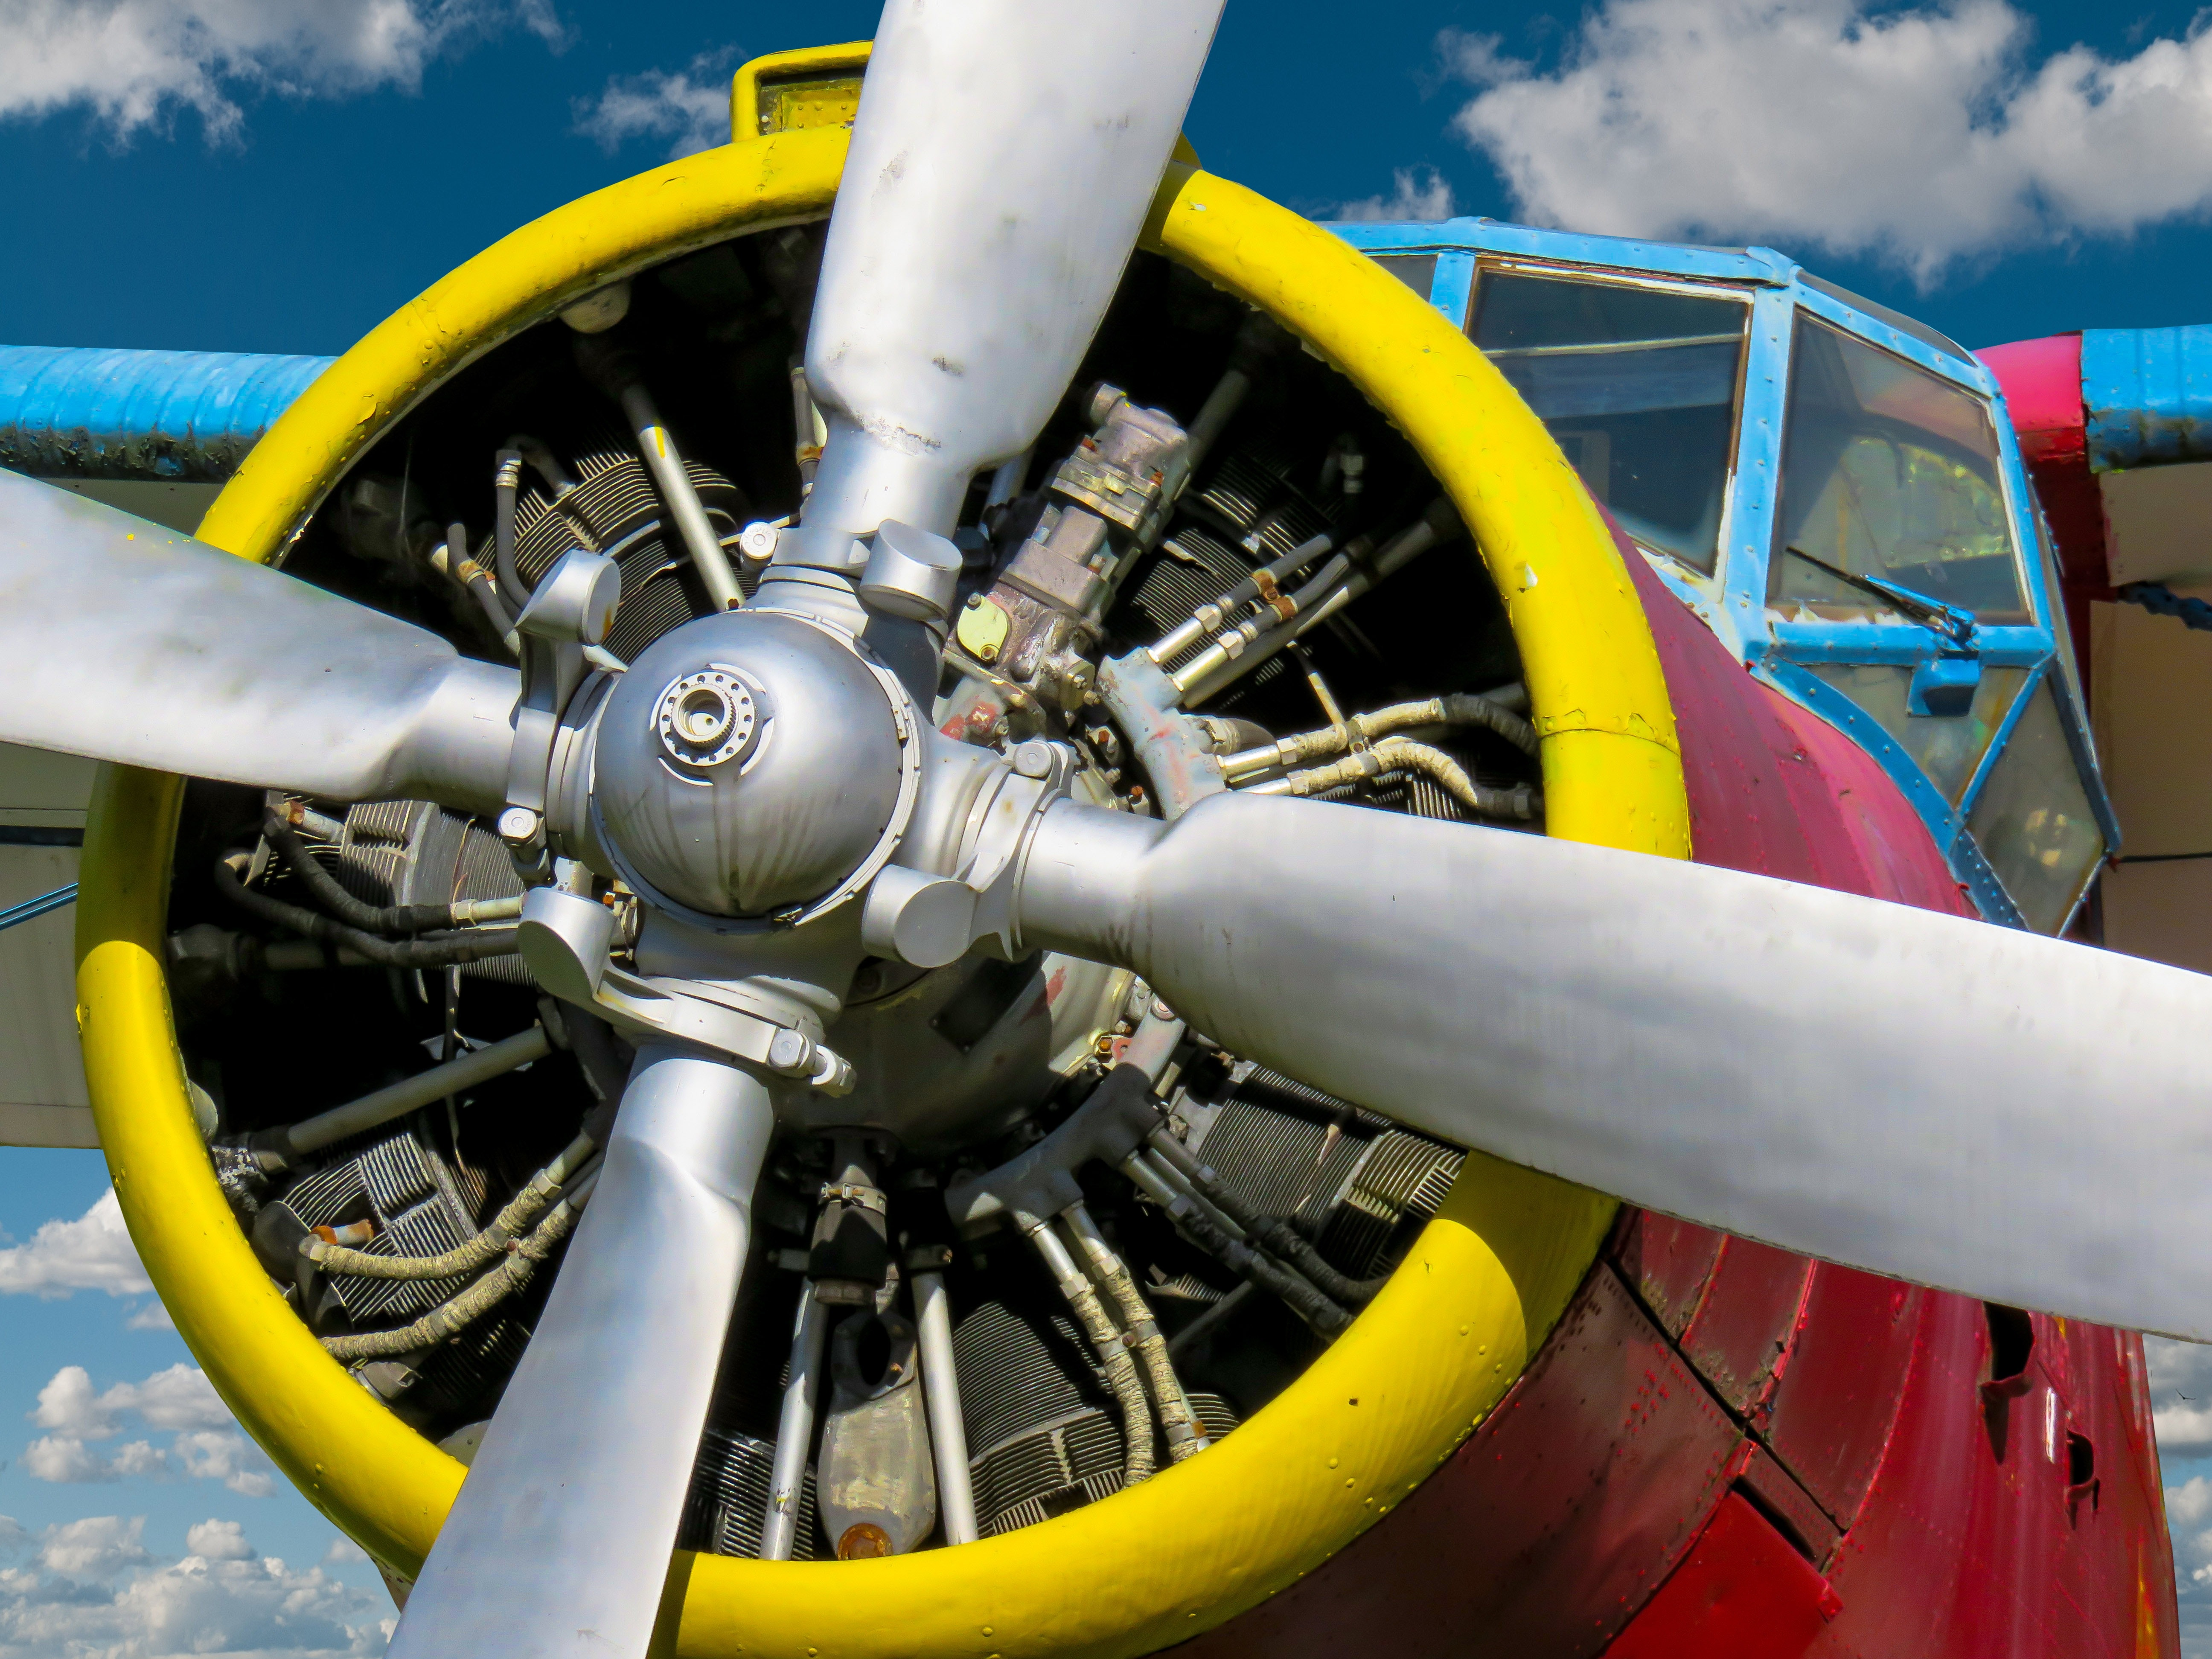Propeller: (111, 124, 1743, 1431)
